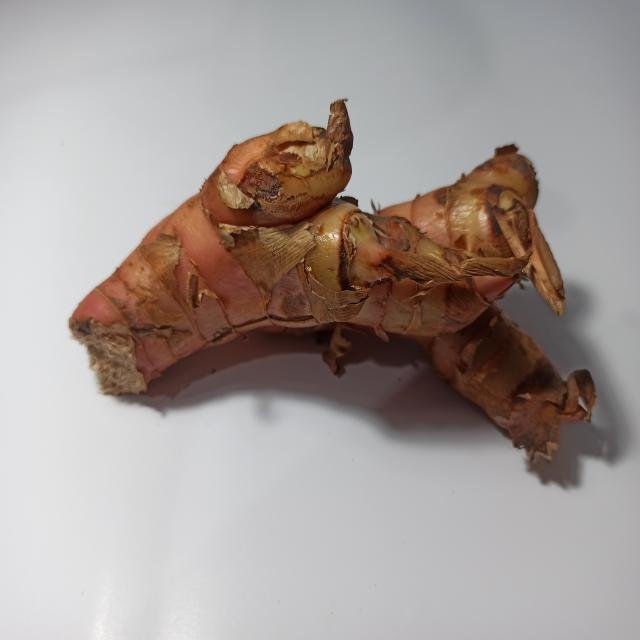ginger: (92, 109, 578, 438)
